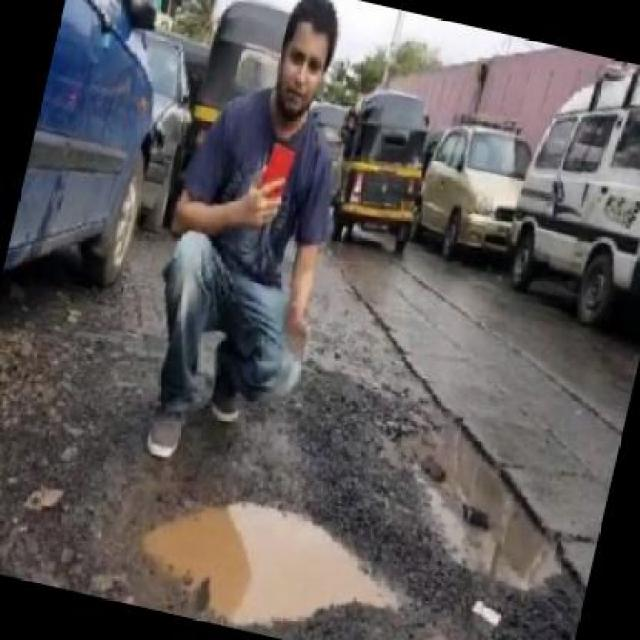pothole1: (125, 468, 420, 638), (366, 405, 594, 597)
